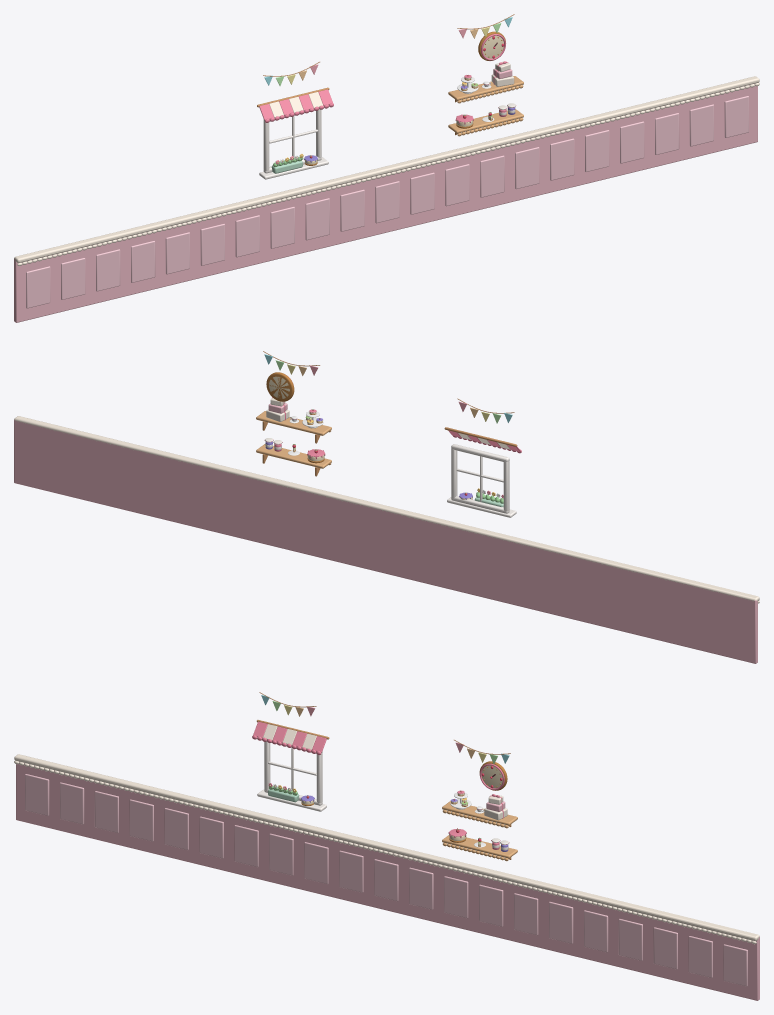
File: shop.glb
3 renders of one model, top to bottom at view 1: azimuth 30°, elevation 25°; view 2: azimuth 150°, elevation 25°; view 3: azimuth 330°, elevation 25°, orthographic.
Visible parts, largest first — view 1: cf6c3cf, cf9d0da, cfff4e6, ce8b886, cf48fa8, cfffaf6, cfff0cf; view 2: cf6c3cf, cfff4e6, cfffaf6, ce8b886, cc98b4b, cf48fa8; view 3: cf6c3cf, cf9d0da, cfff4e6, ce8b886, cf48fa8, cfffaf6, cfff0cf.
Part boxes in pixels (left/top/right/bottom): cf6c3cf: left=14, top=68, right=757, bottom=322; cf9d0da: left=26, top=96, right=748, bottom=308; cfff4e6: left=14, top=76, right=759, bottom=266; ce8b886: left=448, top=76, right=523, bottom=136; cf48fa8: left=259, top=34, right=516, bottom=124; cfffaf6: left=259, top=109, right=328, bottom=179; cfff0cf: left=304, top=35, right=503, bottom=164; cf6c3cf: left=14, top=403, right=757, bottom=663; cfff4e6: left=14, top=416, right=759, bottom=603; cfffaf6: left=447, top=444, right=516, bottom=517; ce8b886: left=256, top=411, right=331, bottom=468; cc98b4b: left=266, top=372, right=324, bottom=463; cf48fa8: left=264, top=377, right=521, bottom=458; cf6c3cf: left=16, top=761, right=759, bottom=1000; cf9d0da: left=25, top=774, right=747, bottom=986; cfff4e6: left=14, top=724, right=759, bottom=944; ce8b886: left=442, top=801, right=517, bottom=861; cf48fa8: left=252, top=721, right=509, bottom=849; cfffaf6: left=257, top=741, right=326, bottom=811; cfff0cf: left=301, top=765, right=502, bottom=845.
Size of the model in its own units: 34.01 by 8.28 by 0.87.
